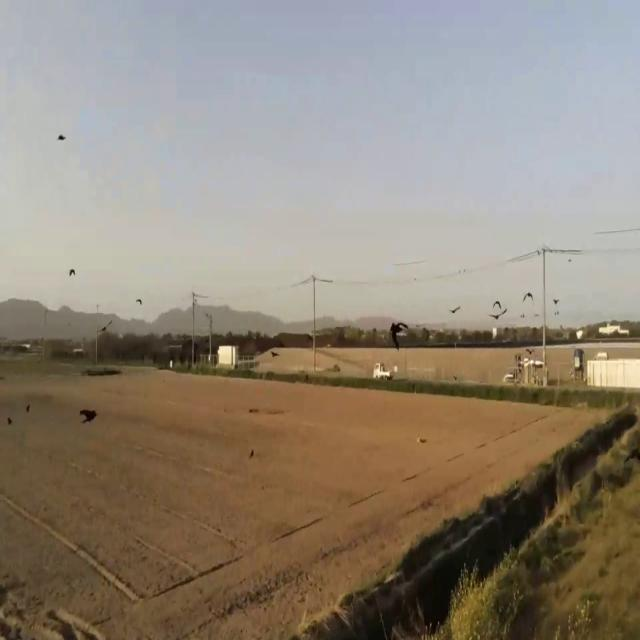bird: (80, 400, 97, 430), (492, 294, 506, 318), (523, 285, 535, 306), (56, 126, 66, 147), (450, 300, 460, 320), (68, 262, 76, 282), (552, 295, 560, 314)
